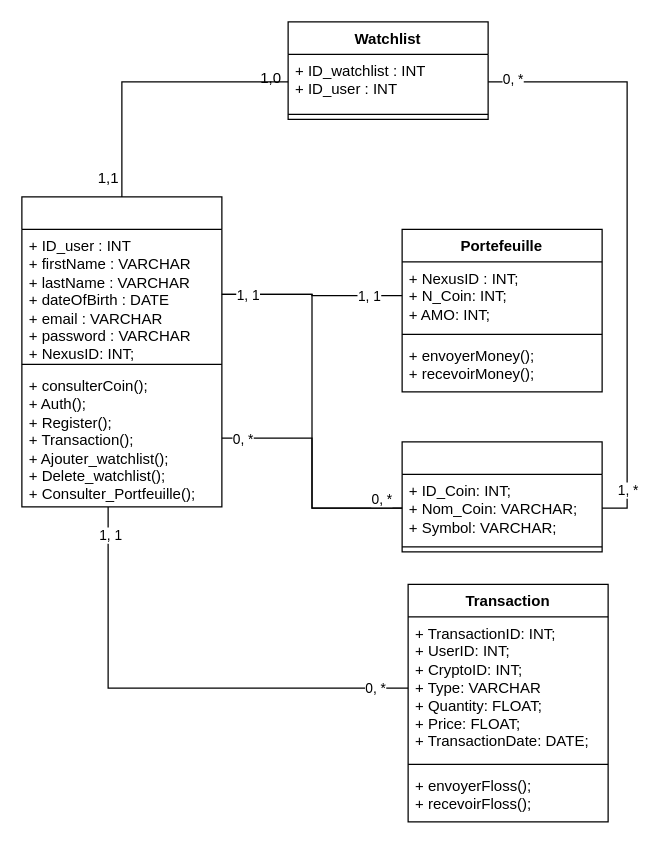
Some shapes in this 660 by 848 pixel diagram are drawn without their labels. The shapes that lost their labels are listed below. From the top down, each one's box as (x1, y1, x2, y2) in pixels, then its label:
(21, 196, 222, 507): Utilisateur
(401, 441, 602, 552): Cryptomonnie
